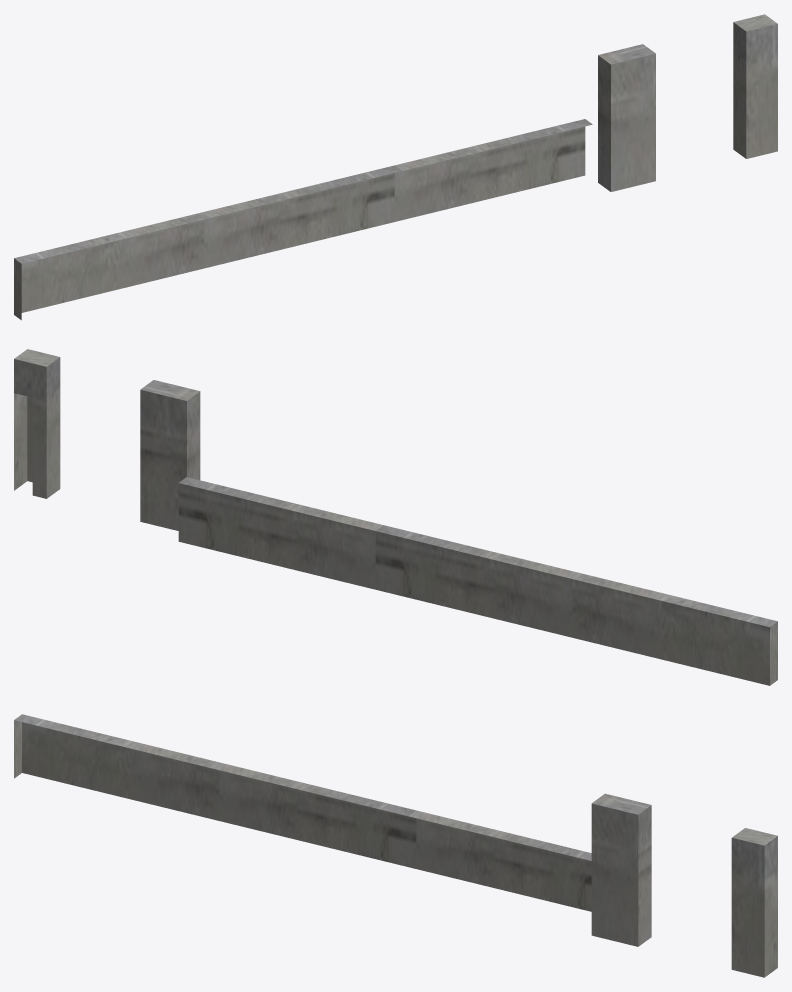
The model's file is Cinderblock_Wall.dae.
3 views of the same model, one above another, from view 1: azimuth 30°, elevation 25°; view 2: azimuth 150°, elevation 25°; view 3: azimuth 330°, elevation 25° (orthographic). The views are drawn at different scales.
Visible parts, largest first — view 1: Cinderblock_Wall; view 2: Cinderblock_Wall; view 3: Cinderblock_Wall.
Part boxes in pixels (box(x1,y1,x2,y2)): Cinderblock_Wall: box(14, 14, 777, 320); Cinderblock_Wall: box(14, 349, 777, 685); Cinderblock_Wall: box(14, 714, 777, 977).
Size of the model in its own units: 16.4 by 0.9 by 2.7.
1 material, 1 textured.
